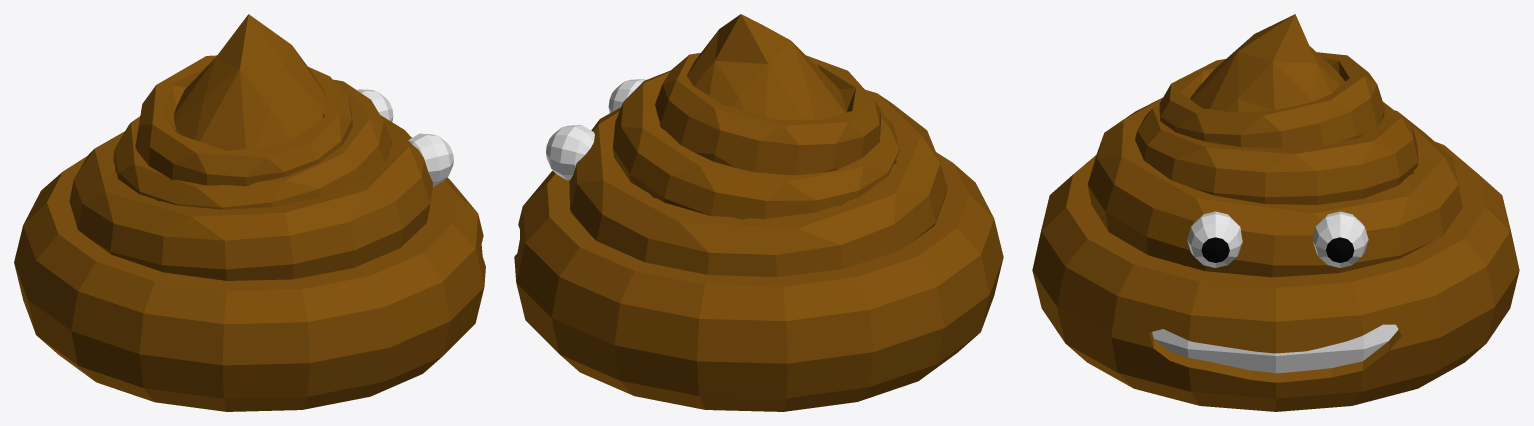
The model's file is poop.glb.
3 renders of one model, left to right at view 1: azimuth 30°, elevation 25°; view 2: azimuth 150°, elevation 25°; view 3: azimuth 270°, elevation 25°, orthographic. The views are drawn at different scales.
Visible parts, largest first — view 1: Sphere.001; view 2: Sphere.001; view 3: Sphere.001.
Part boxes in pixels (bbox=[...]): Sphere.001: bbox=[14, 14, 485, 411]; Sphere.001: bbox=[514, 14, 1003, 411]; Sphere.001: bbox=[1032, 14, 1519, 411].
Bounding box in the file's own units: 2.47 × 1.76 × 2.49.
